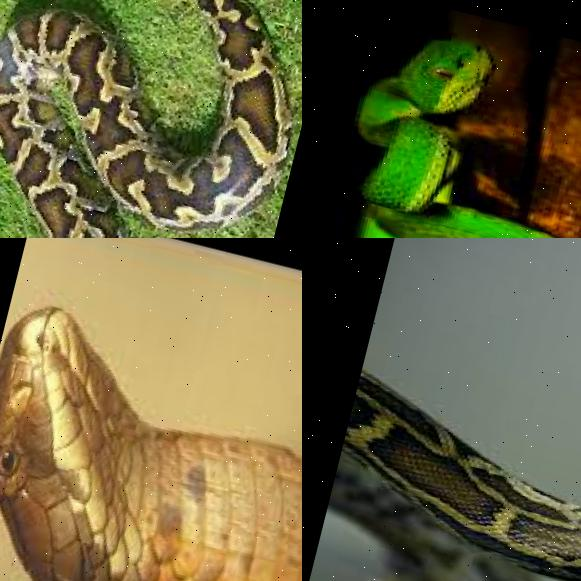snake: (0, 260, 302, 581), (302, 238, 581, 581), (0, 0, 302, 238), (302, 19, 581, 238)
